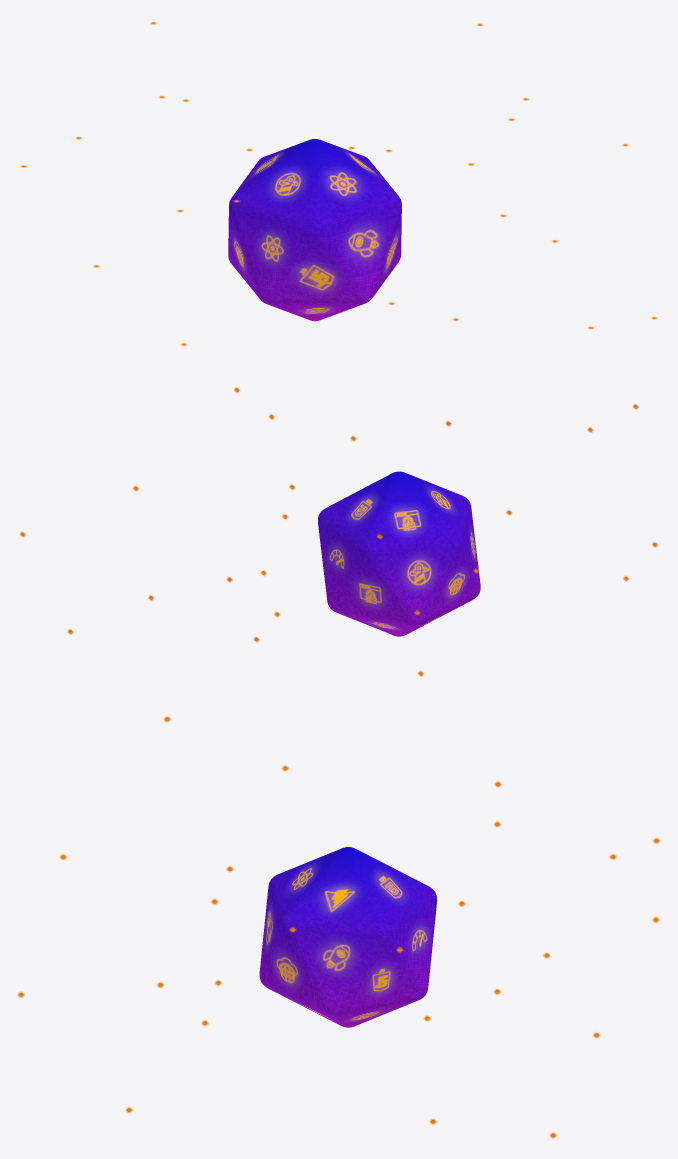
The picture shows the model from 3 angles, top to bottom: view 1: azimuth 30°, elevation 25°; view 2: azimuth 150°, elevation 25°; view 3: azimuth 270°, elevation 25°; orthographic projection. The views are drawn at different scales.
Parts seen in each view (by area): view 1: polySurface92.030; view 2: polySurface92.030, Plane.004_ground_0; view 3: polySurface92.030, Plane.004_ground_0.
Boxes of the visible parts, <box> form: polySurface92.030: <box>228,139,401,321</box>; polySurface92.030: <box>318,471,480,636</box>; Plane.004_ground_0: <box>19,387,657,676</box>; polySurface92.030: <box>259,847,437,1027</box>; Plane.004_ground_0: <box>17,716,660,1138</box>.
Bounding box in the file's own units: 6.2 × 2.49 × 6.36.
Materials: 2 (2 with a texture image).
